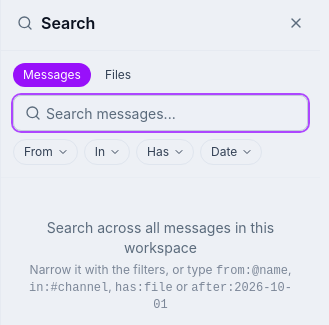
Test: SearchPanel › names a channel the person is not in
This screenshot has width=329, height=325.
Type "budget" into the field at (160, 113), box [13,95,308,131]
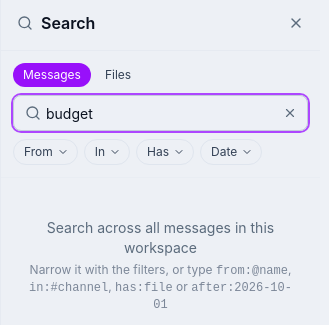
Press Enter in the field, box [13,95,308,131]
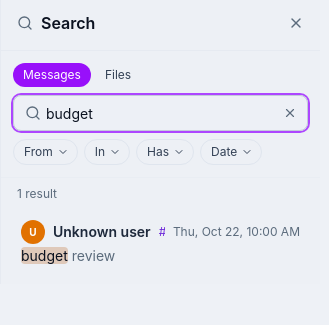
Result: the button with test id "search-result" shows "#design" at [9,210,312,276]
